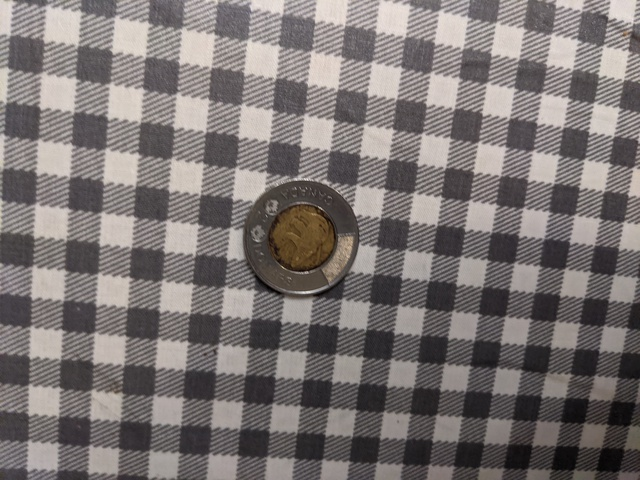twonie: (224, 173, 353, 300)
